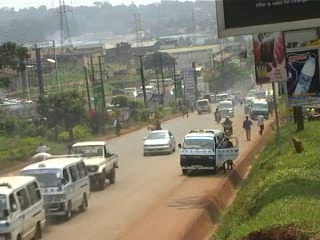Car: (140, 129, 178, 156)
Motorcycle: (221, 124, 232, 136), (213, 110, 221, 123)
